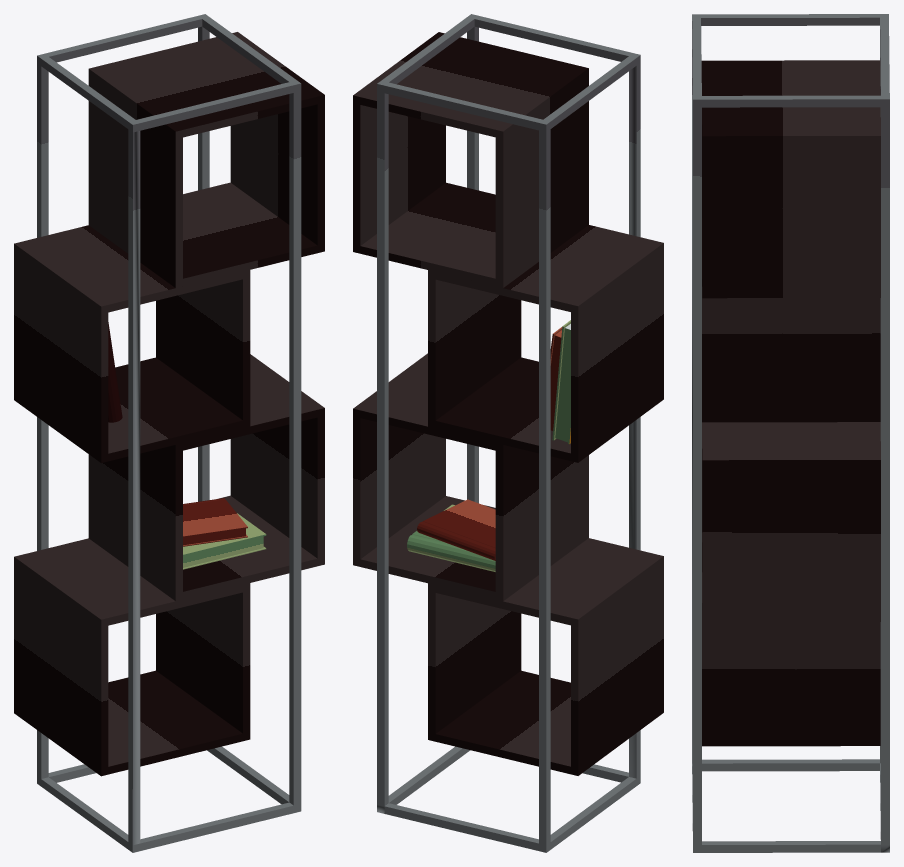
Rendered from bookshelf.fbx.
3 renders of one model, left to right at view 1: azimuth 30°, elevation 25°; view 2: azimuth 150°, elevation 25°; view 3: azimuth 270°, elevation 25°, orthographic. The views are drawn at different scales.
Parts seen in each view (by area): view 1: Shelf_1, Shelf_4, Shelf_2, metal, Shelf_3, Book, Book_4, Book_3.001; view 2: Shelf_1, Shelf_4, Shelf_2, metal, Shelf_3, Book, Book_3, Book_4, Book_3.001; view 3: Shelf_1, Shelf_3, metal, Shelf_4, Shelf_2.
Boxes of the visible parts, <box> form: Shelf_1: <box>88,32,324,287</box>; Shelf_4: <box>14,538,250,776</box>; Shelf_2: <box>14,225,250,462</box>; metal: <box>37,14,301,852</box>; Shelf_3: <box>88,354,324,601</box>; Book: <box>183,498,247,546</box>; Book_4: <box>183,513,266,569</box>; Book_3.001: <box>108,322,122,422</box>; Shelf_1: <box>353,32,588,287</box>; Shelf_4: <box>428,538,663,775</box>; Shelf_2: <box>428,225,663,462</box>; metal: <box>377,14,640,852</box>; Shelf_3: <box>353,353,588,601</box>; Book: <box>417,499,495,560</box>; Book_3: <box>552,320,570,444</box>; Book_4: <box>407,504,495,571</box>; Book_3.001: <box>550,327,562,430</box>; Shelf_1: <box>701,60,880,298</box>; Shelf_3: <box>702,422,880,622</box>; metal: <box>692,14,889,852</box>; Shelf_4: <box>702,611,880,746</box>; Shelf_2: <box>702,287,880,422</box>.
Bounding box in the file's own units: 60.2 × 186 × 44.27.
